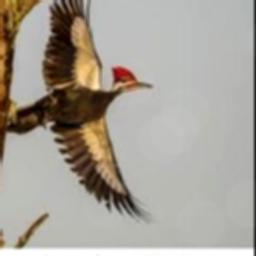Woodpecker: (3, 0, 156, 226)
